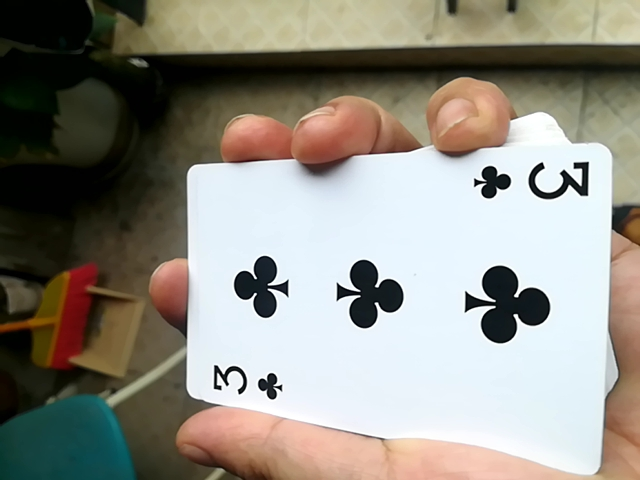mh 3: (173, 140, 619, 471)
